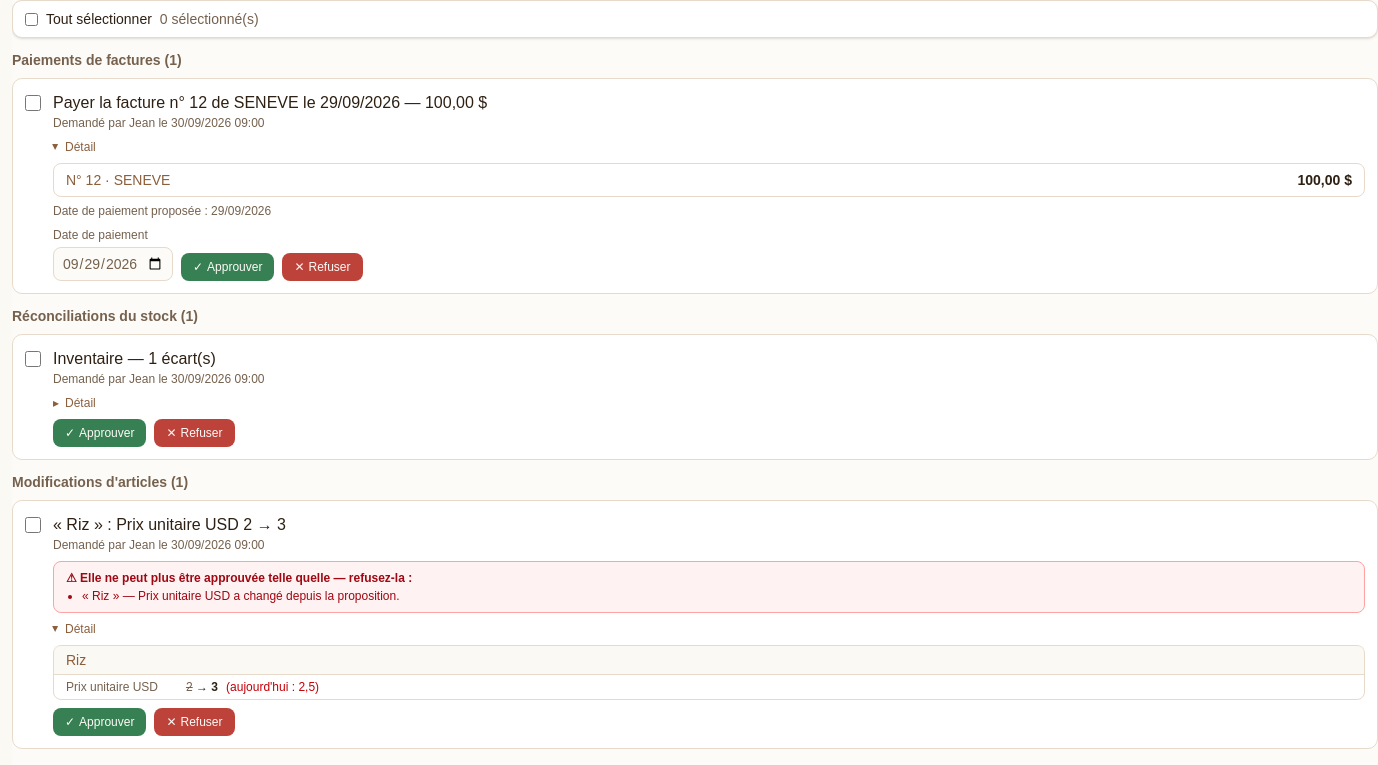
Test: File de la Direction › actions groupées : Approuver envoie la sélection (et la date de paiement) ; le bilan nomme la demande non traitée
This screenshot has width=1378, height=765.
Click the checkbox named "Sélectionner : Payer la facture n° 12 de SENEVE le 29/09/202" at (33, 103), box [25,95,41,111]
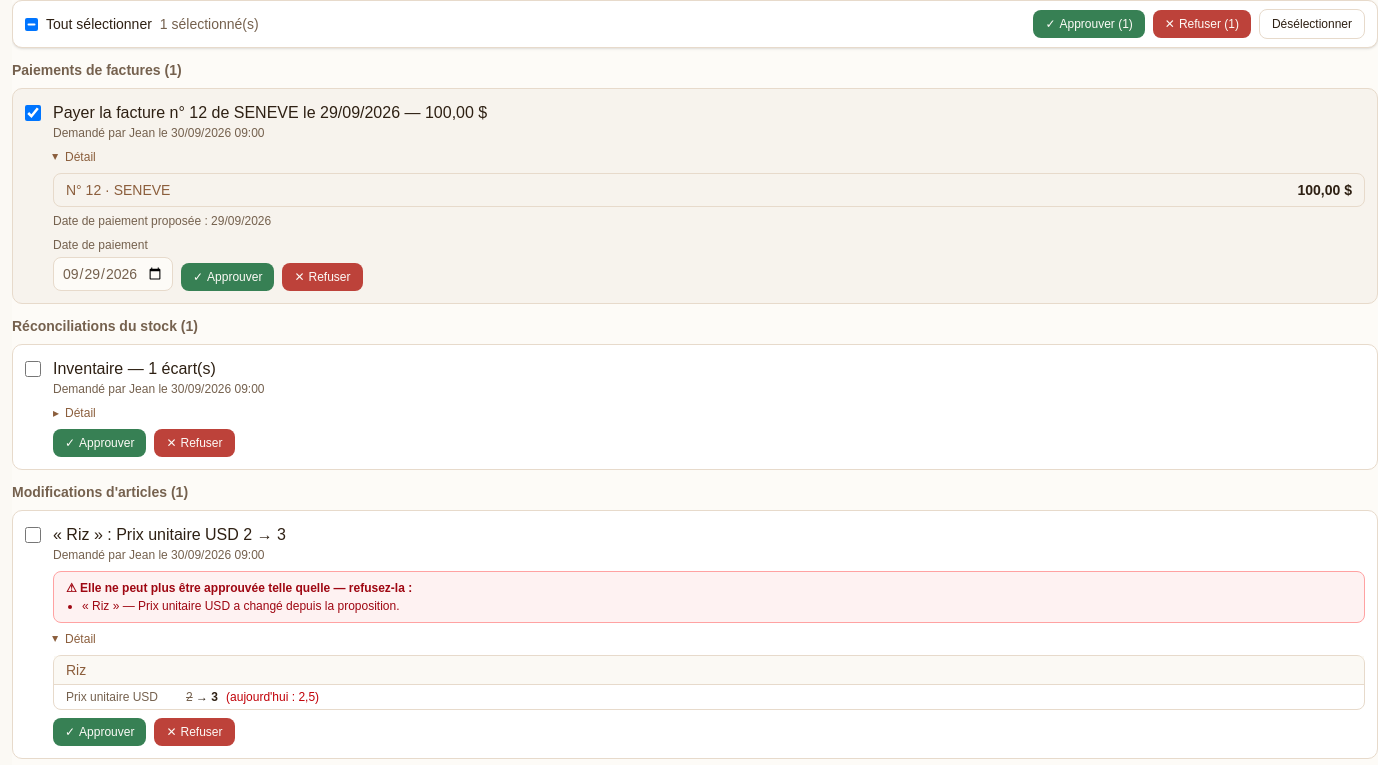
Click the checkbox named "Sélectionner : « Riz » : Prix unitaire USD 2 → 3" at (33, 535), box [25,527,41,543]
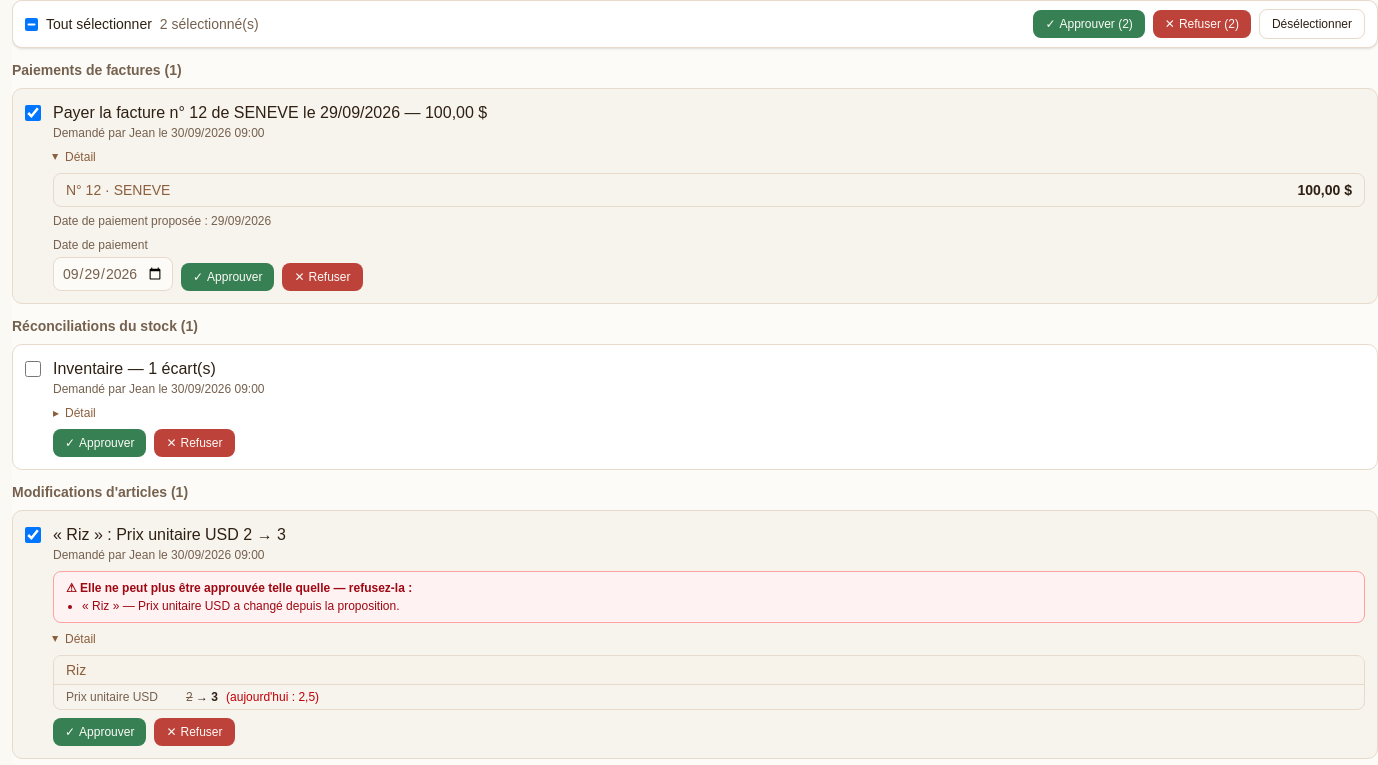
Click the button "✓ Approuver (2)" at (1089, 24), box [1033,10,1145,38]
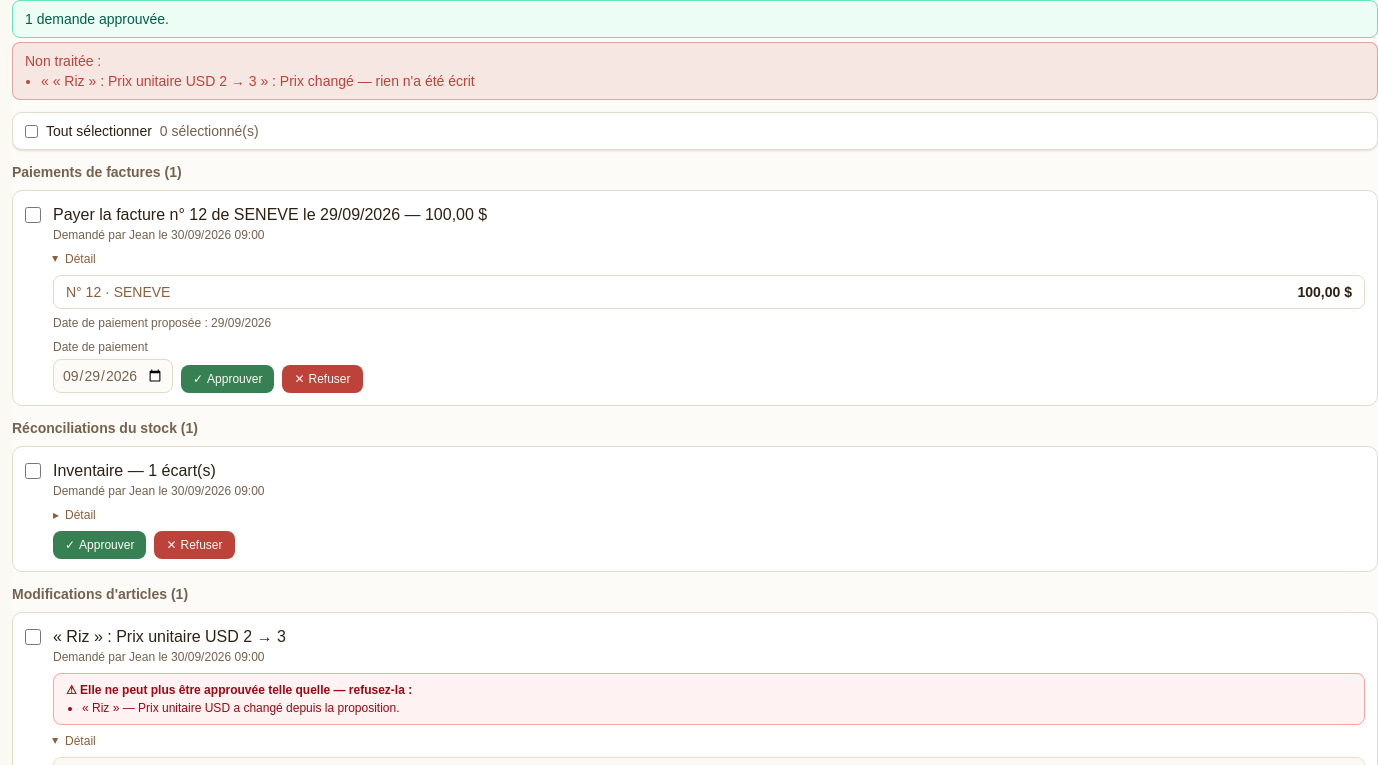
Result: the text "1 demande approuvée." is shown at [12,0,1377,38]
Result: the text "« « Riz » : Prix unitaire USD 2 → 3 » : Prix changé — rien n'a été écrit" is shown at [41,73,475,89]
